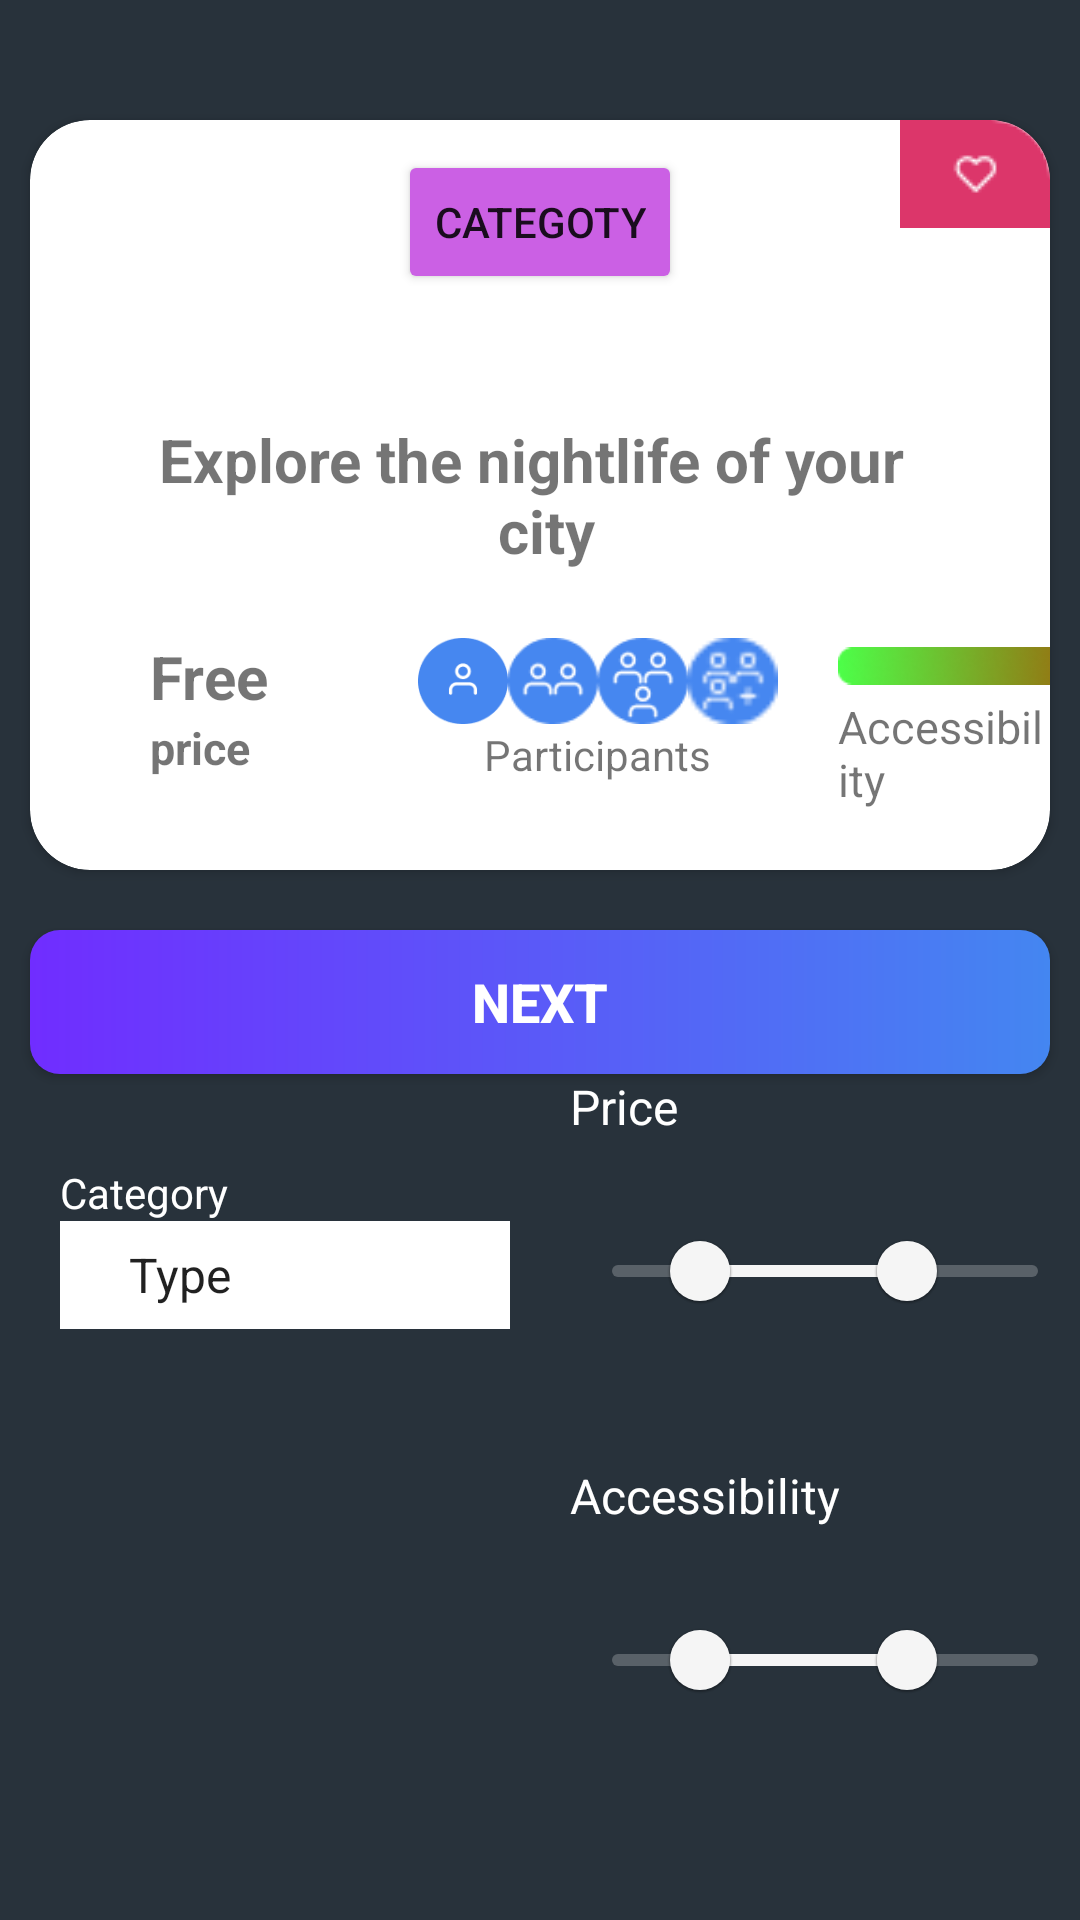

Screen size 1080w x 1920h. Icon name, then its center in pixels as point (x, y):
favorite: point (975, 174)
